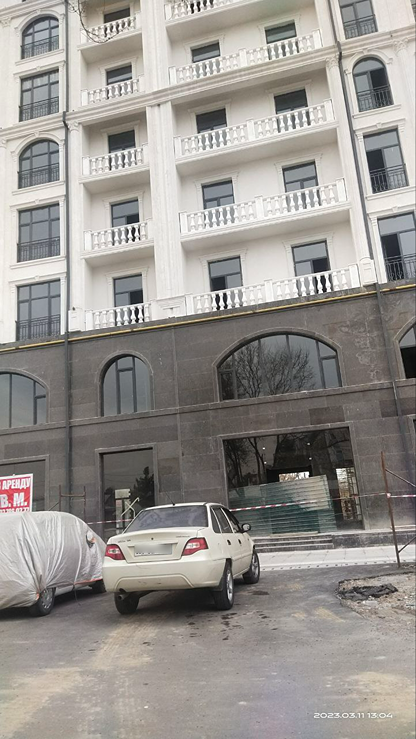tree: (95, 490, 272, 615)
